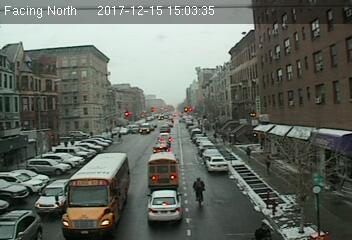bicycle: (191, 177, 206, 208)
car: (33, 178, 74, 214), (1, 209, 41, 240), (145, 190, 182, 221), (204, 156, 228, 171), (152, 144, 169, 153)
truck: (60, 152, 132, 240), (146, 153, 179, 188)
